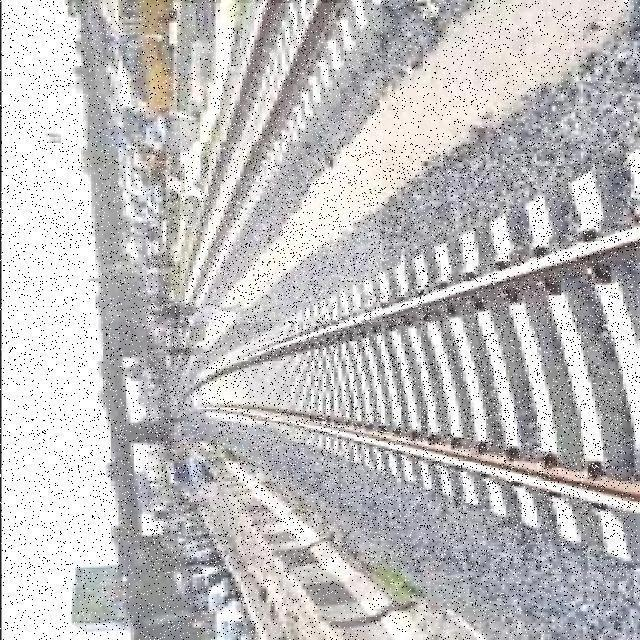rail: (149, 145, 638, 573), (182, 4, 383, 323)
